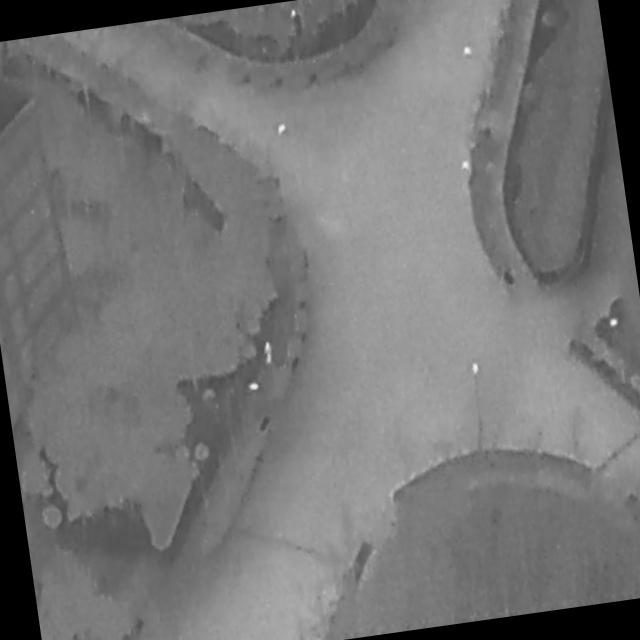person: (264, 341, 275, 364)
